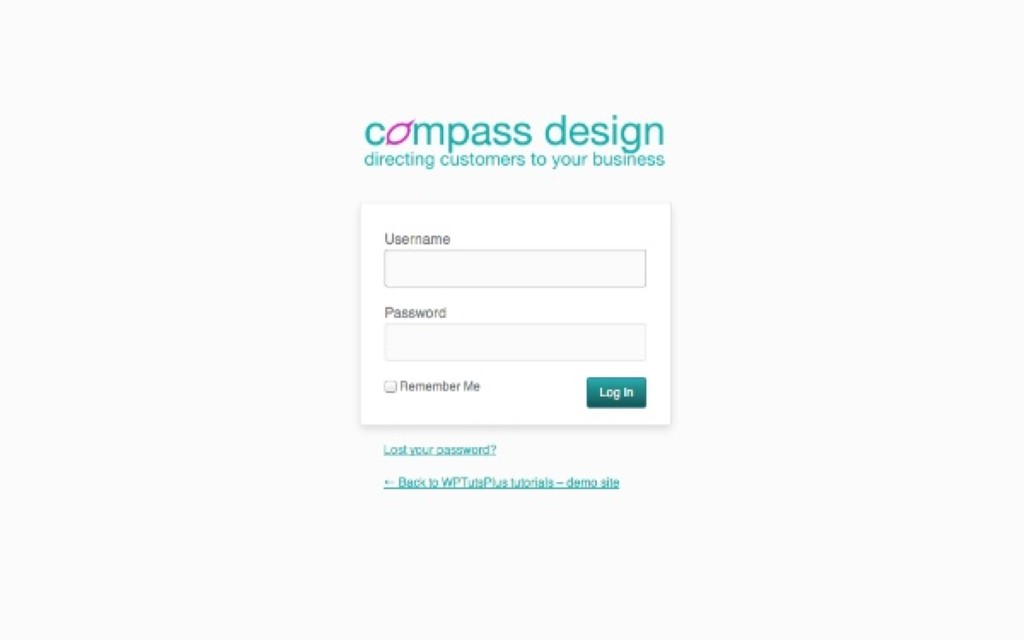button: (587, 378, 647, 409)
checkbox: (384, 379, 398, 392)
checkbox_remember: (380, 377, 487, 397)
label_Login: (596, 384, 635, 402)
label_Username: (384, 231, 454, 247)
label_password: (383, 305, 448, 321)
label_remember: (402, 379, 481, 393)
textbox: (384, 249, 645, 288), (385, 323, 646, 360)
textbox_Password: (384, 322, 647, 359)
textbox_username: (386, 248, 643, 289)
url: (382, 473, 624, 493), (383, 441, 499, 458)
